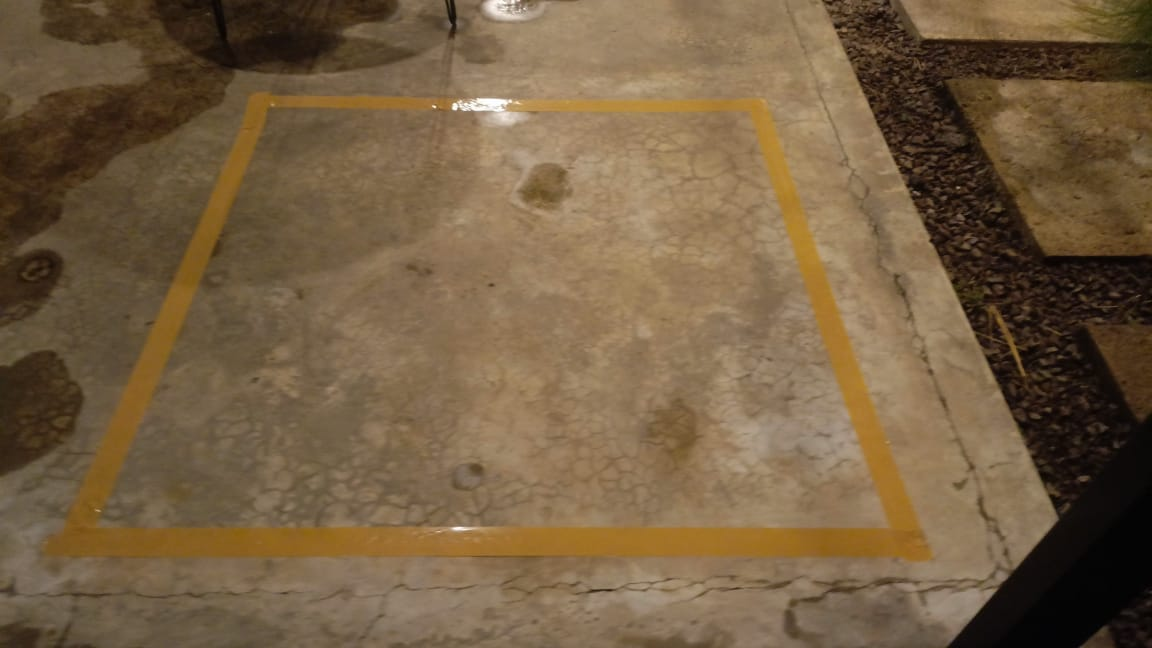floor marking: (47, 94, 930, 559)
